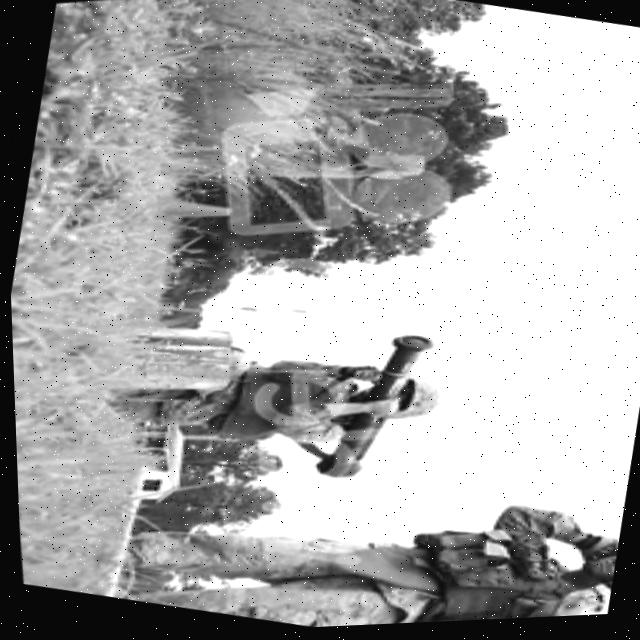rocket: (280, 314, 464, 507)
